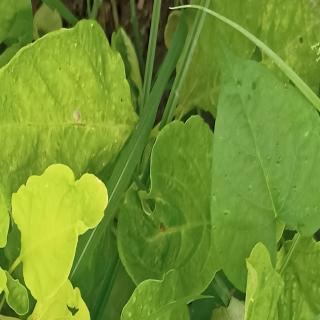karat_putih: (1, 17, 135, 183), (255, 1, 320, 101), (83, 266, 189, 320)
kekurangan_mangan: (16, 277, 102, 320)
virus_keriting: (114, 112, 229, 297)
